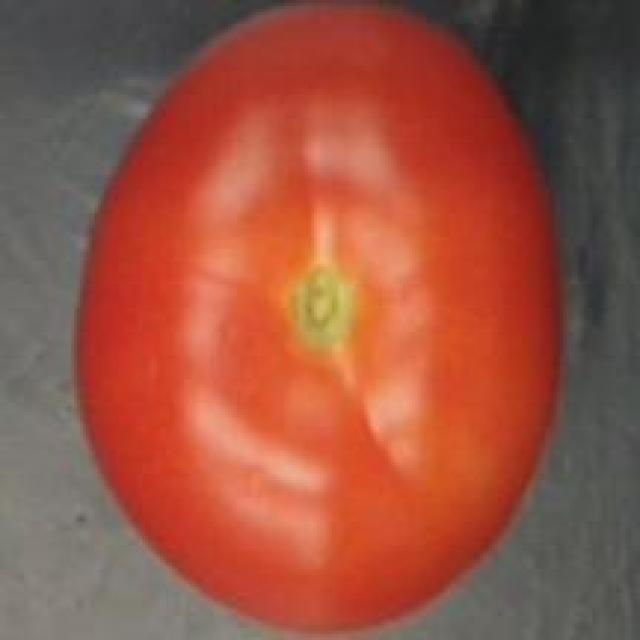ripe tomato: (56, 0, 581, 640)
